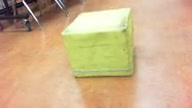cube: (61, 8, 132, 77)
